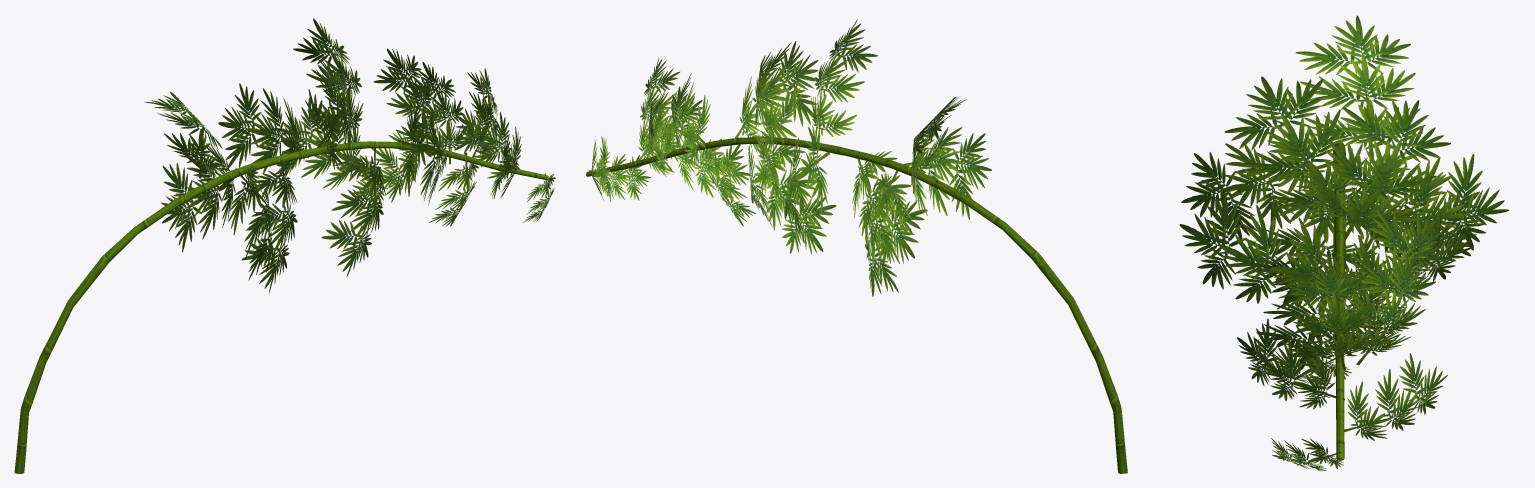
Rendered from BambooE.fbx.
3 renders of one model, left to right at view 1: azimuth 30°, elevation 25°; view 2: azimuth 150°, elevation 25°; view 3: azimuth 270°, elevation 25°, orthographic. The views are drawn at different scales.
Parts seen in each view (by area): view 1: pPlaneShape17, pPlane3; view 2: pPlaneShape17, pPlane3; view 3: pPlaneShape17, pPlane3.
Boxes of the visible parts, x1,y1,x2,y2 form: pPlaneShape17: [145, 18, 555, 293]; pPlane3: [14, 141, 548, 473]; pPlaneShape17: [588, 19, 991, 296]; pPlane3: [586, 137, 1127, 473]; pPlaneShape17: [1179, 15, 1509, 471]; pPlane3: [1333, 140, 1345, 460].
Bounding box in the file's own units: 4.44 × 3 × 2.08.
2 materials, 2 textured.
